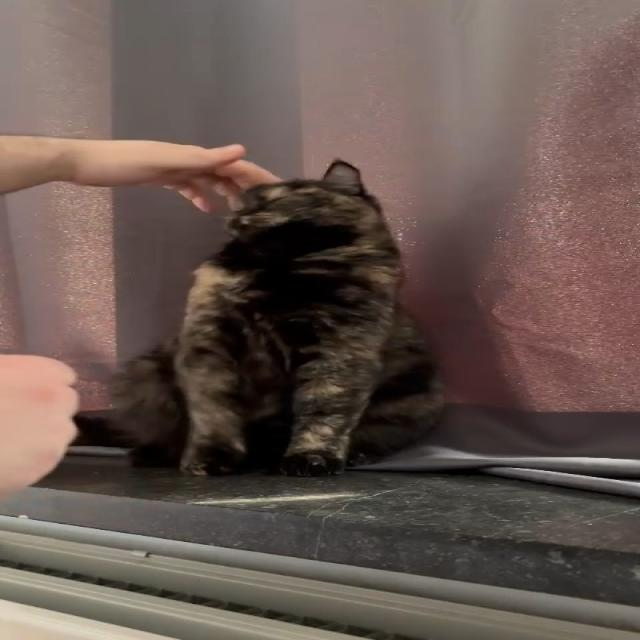authorized: (70, 158, 447, 477)
